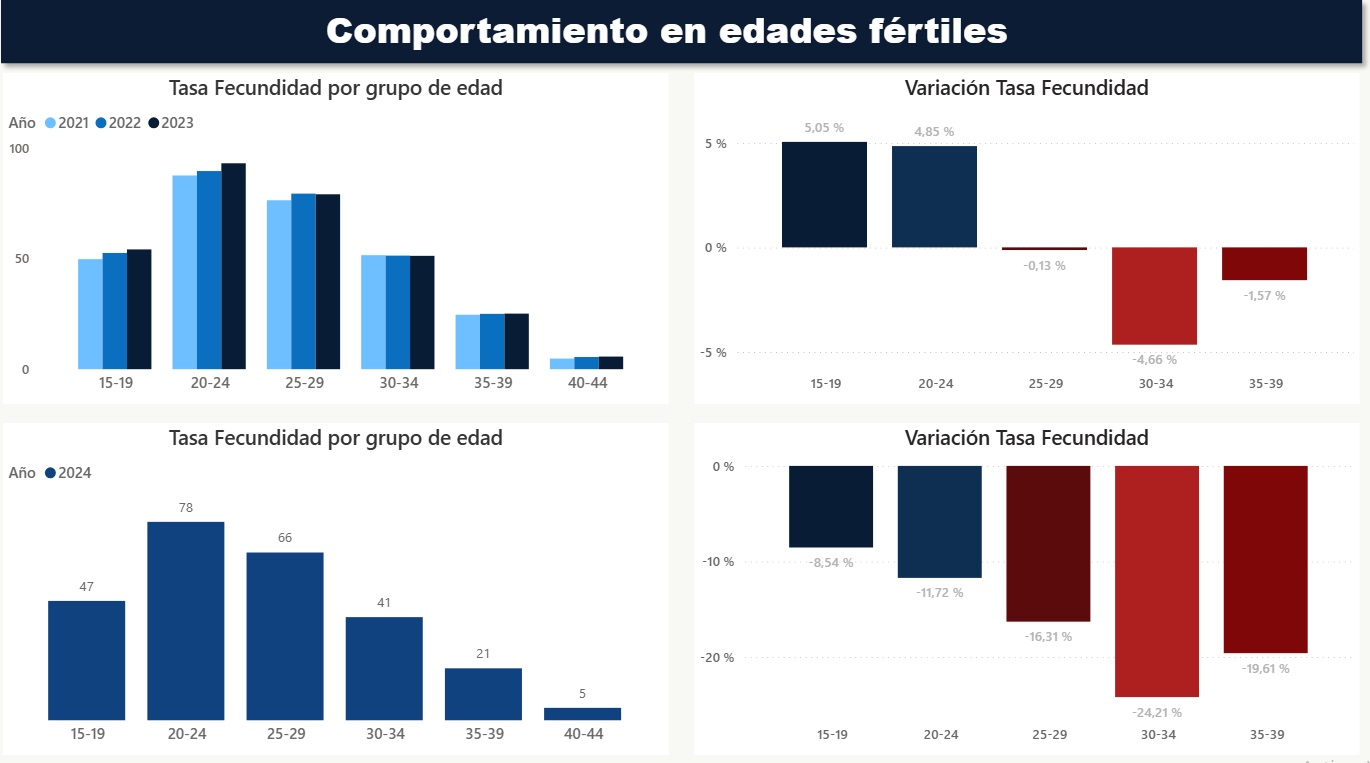

The dashboard page shown, as its layout file describes it:
{"tool":"powerbi","page":{"name":"Edades","canvas":[1280,720],"ordinal":2},"visuals":[{"type":"clusteredColumnChart","title":"Variación Tasa Fecundidad","fields":{"Category":["Tasa Fecundidad.Edad de la madre"],"Y":["Tasa Fecundidad.Variacion1"]},"box":[664.1,393.9,605.1,301.6],"z":500},{"type":"clusteredColumnChart","title":"Tasa Fecundidad por grupo de edad","fields":{"Category":["Tasa Fecundidad.Edad de la madre"],"Y":["Avg(Tasa Fecundidad.Tasa Fecundidad)"],"Series":["Tasa Fecundidad.Año"]},"box":[35.4,75.6,605.1,300.6],"z":750},{"type":"clusteredColumnChart","title":"Variación Tasa Fecundidad","fields":{"Category":["Tasa Fecundidad.Edad de la madre"],"Y":["Tasa Fecundidad.VariacionF"]},"box":[664.1,75.6,605.1,300.6],"z":875},{"type":"clusteredColumnChart","title":"Tasa Fecundidad por grupo de edad","fields":{"Category":["Tasa Fecundidad.Edad de la madre"],"Y":["Avg(Tasa Fecundidad.Tasa Fecundidad)"],"Series":["Tasa Fecundidad.Año"]},"box":[35.4,393.9,605.1,301.6],"z":937},{"type":"shape","box":[24.3,0,1255.7,75.9],"z":3000},{"type":"textbox","box":[123.3,8,1041.4,58.2],"z":4000}]}

Visuals, with their boxes in screenshot pixels (x1, y1, x2, y2), scaled from the page's 1280x720 canvas onto the 1370x763 screenshot:
"Variación Tasa Fecundidad" clusteredColumnChart: (711, 417, 1358, 737)
"Tasa Fecundidad por grupo de edad" clusteredColumnChart: (38, 80, 686, 399)
"Variación Tasa Fecundidad" clusteredColumnChart: (711, 80, 1358, 399)
"Tasa Fecundidad por grupo de edad" clusteredColumnChart: (38, 417, 686, 737)
shape: (26, 0, 1369, 80)
textbox: (132, 8, 1247, 70)
